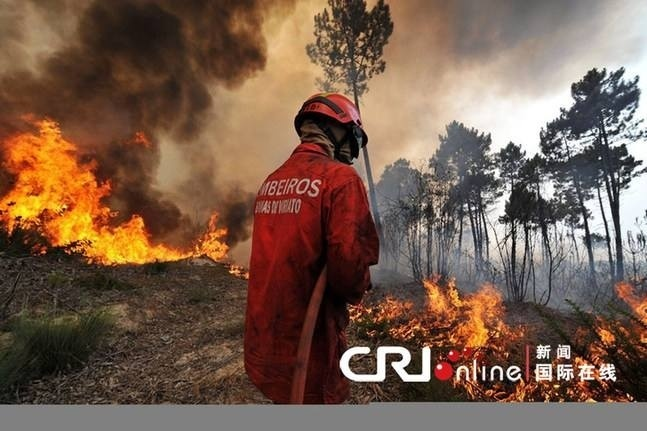fire: (336, 271, 647, 404), (3, 112, 235, 272)
